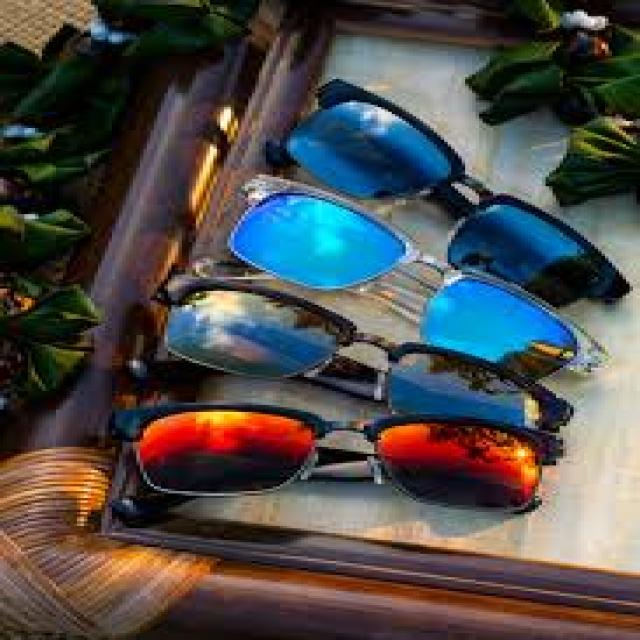sunglasses: (164, 187, 584, 520)
